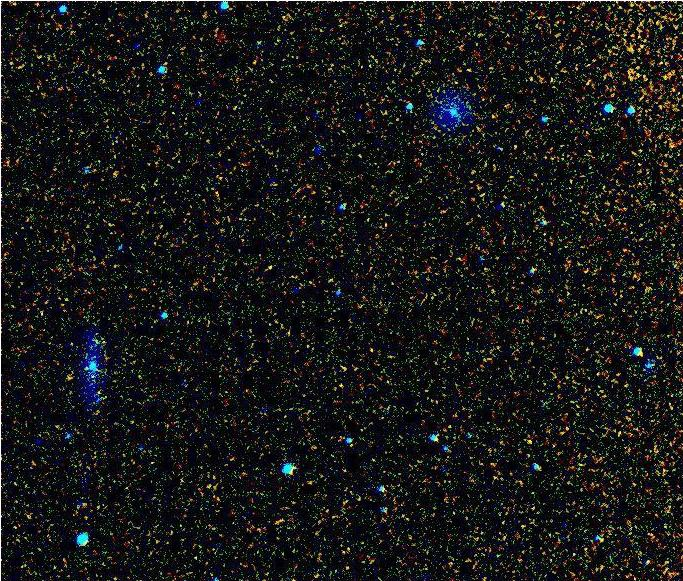star: (51, 366, 81, 396)
